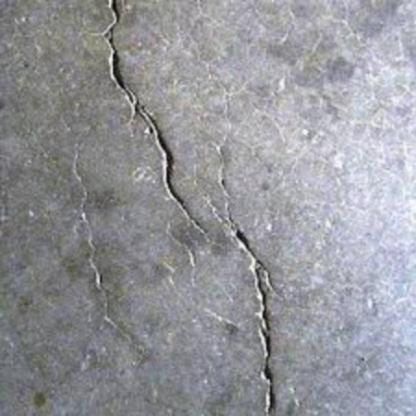SurfaceCrack: (91, 0, 213, 254), (194, 80, 281, 416)
